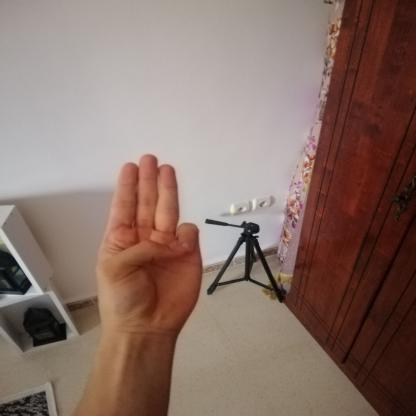THA: (80, 141, 214, 345)
